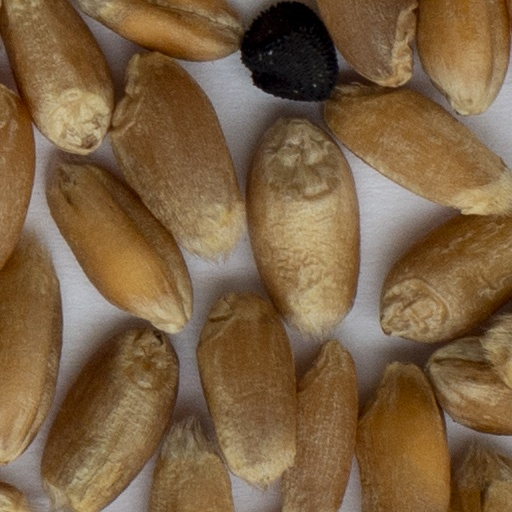Agrostemma-poly: (237, 0, 337, 103)
Wheat-grain-poly: (315, 0, 417, 88)
